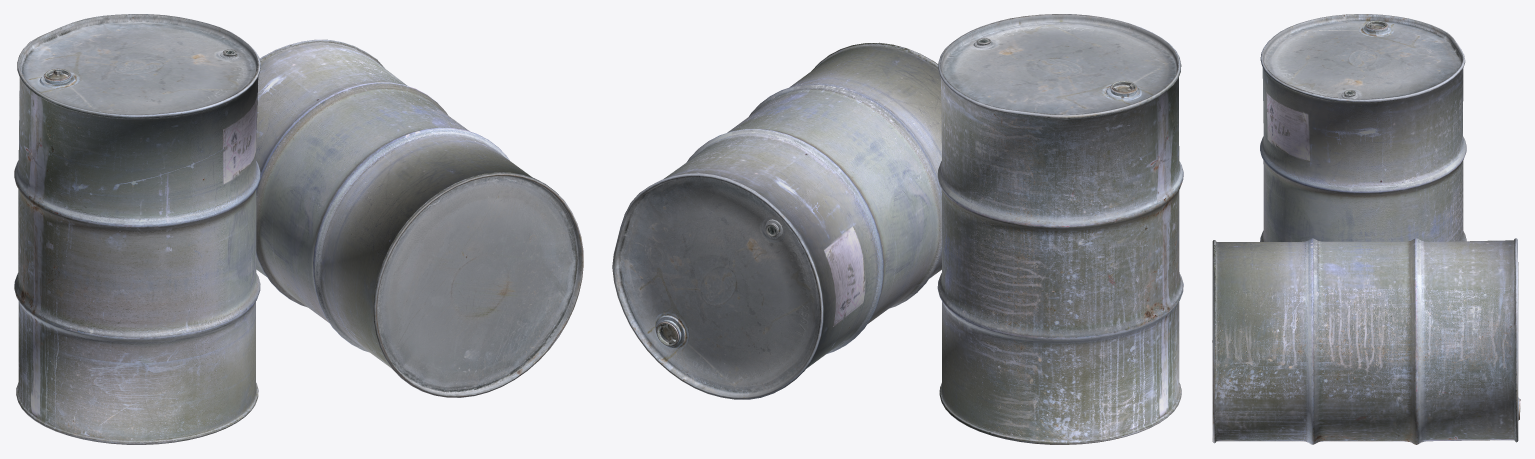
Rendered from new_thin_barrel.glb.
3 views of the same model, side by side, from view 1: azimuth 30°, elevation 25°; view 2: azimuth 150°, elevation 25°; view 3: azimuth 270°, elevation 25° (orthographic). The views are drawn at different scales.
Parts seen in each view (by area): view 1: plechovy_sud_1_low, plechovy_sud_1_low001; view 2: plechovy_sud_1_low, plechovy_sud_1_low001; view 3: plechovy_sud_1_low001, plechovy_sud_1_low.
Part boxes in pixels (bbox=[...]): plechovy_sud_1_low: bbox=[14, 14, 260, 444]; plechovy_sud_1_low001: bbox=[256, 39, 583, 397]; plechovy_sud_1_low: bbox=[937, 14, 1183, 444]; plechovy_sud_1_low001: bbox=[612, 42, 941, 399]; plechovy_sud_1_low001: bbox=[1212, 238, 1520, 444]; plechovy_sud_1_low: bbox=[1260, 14, 1466, 241].
Size of what is drawn, in the model's own units: 1.65 by 1.12 by 1.12.
Materials: 1 (1 with a texture image).
